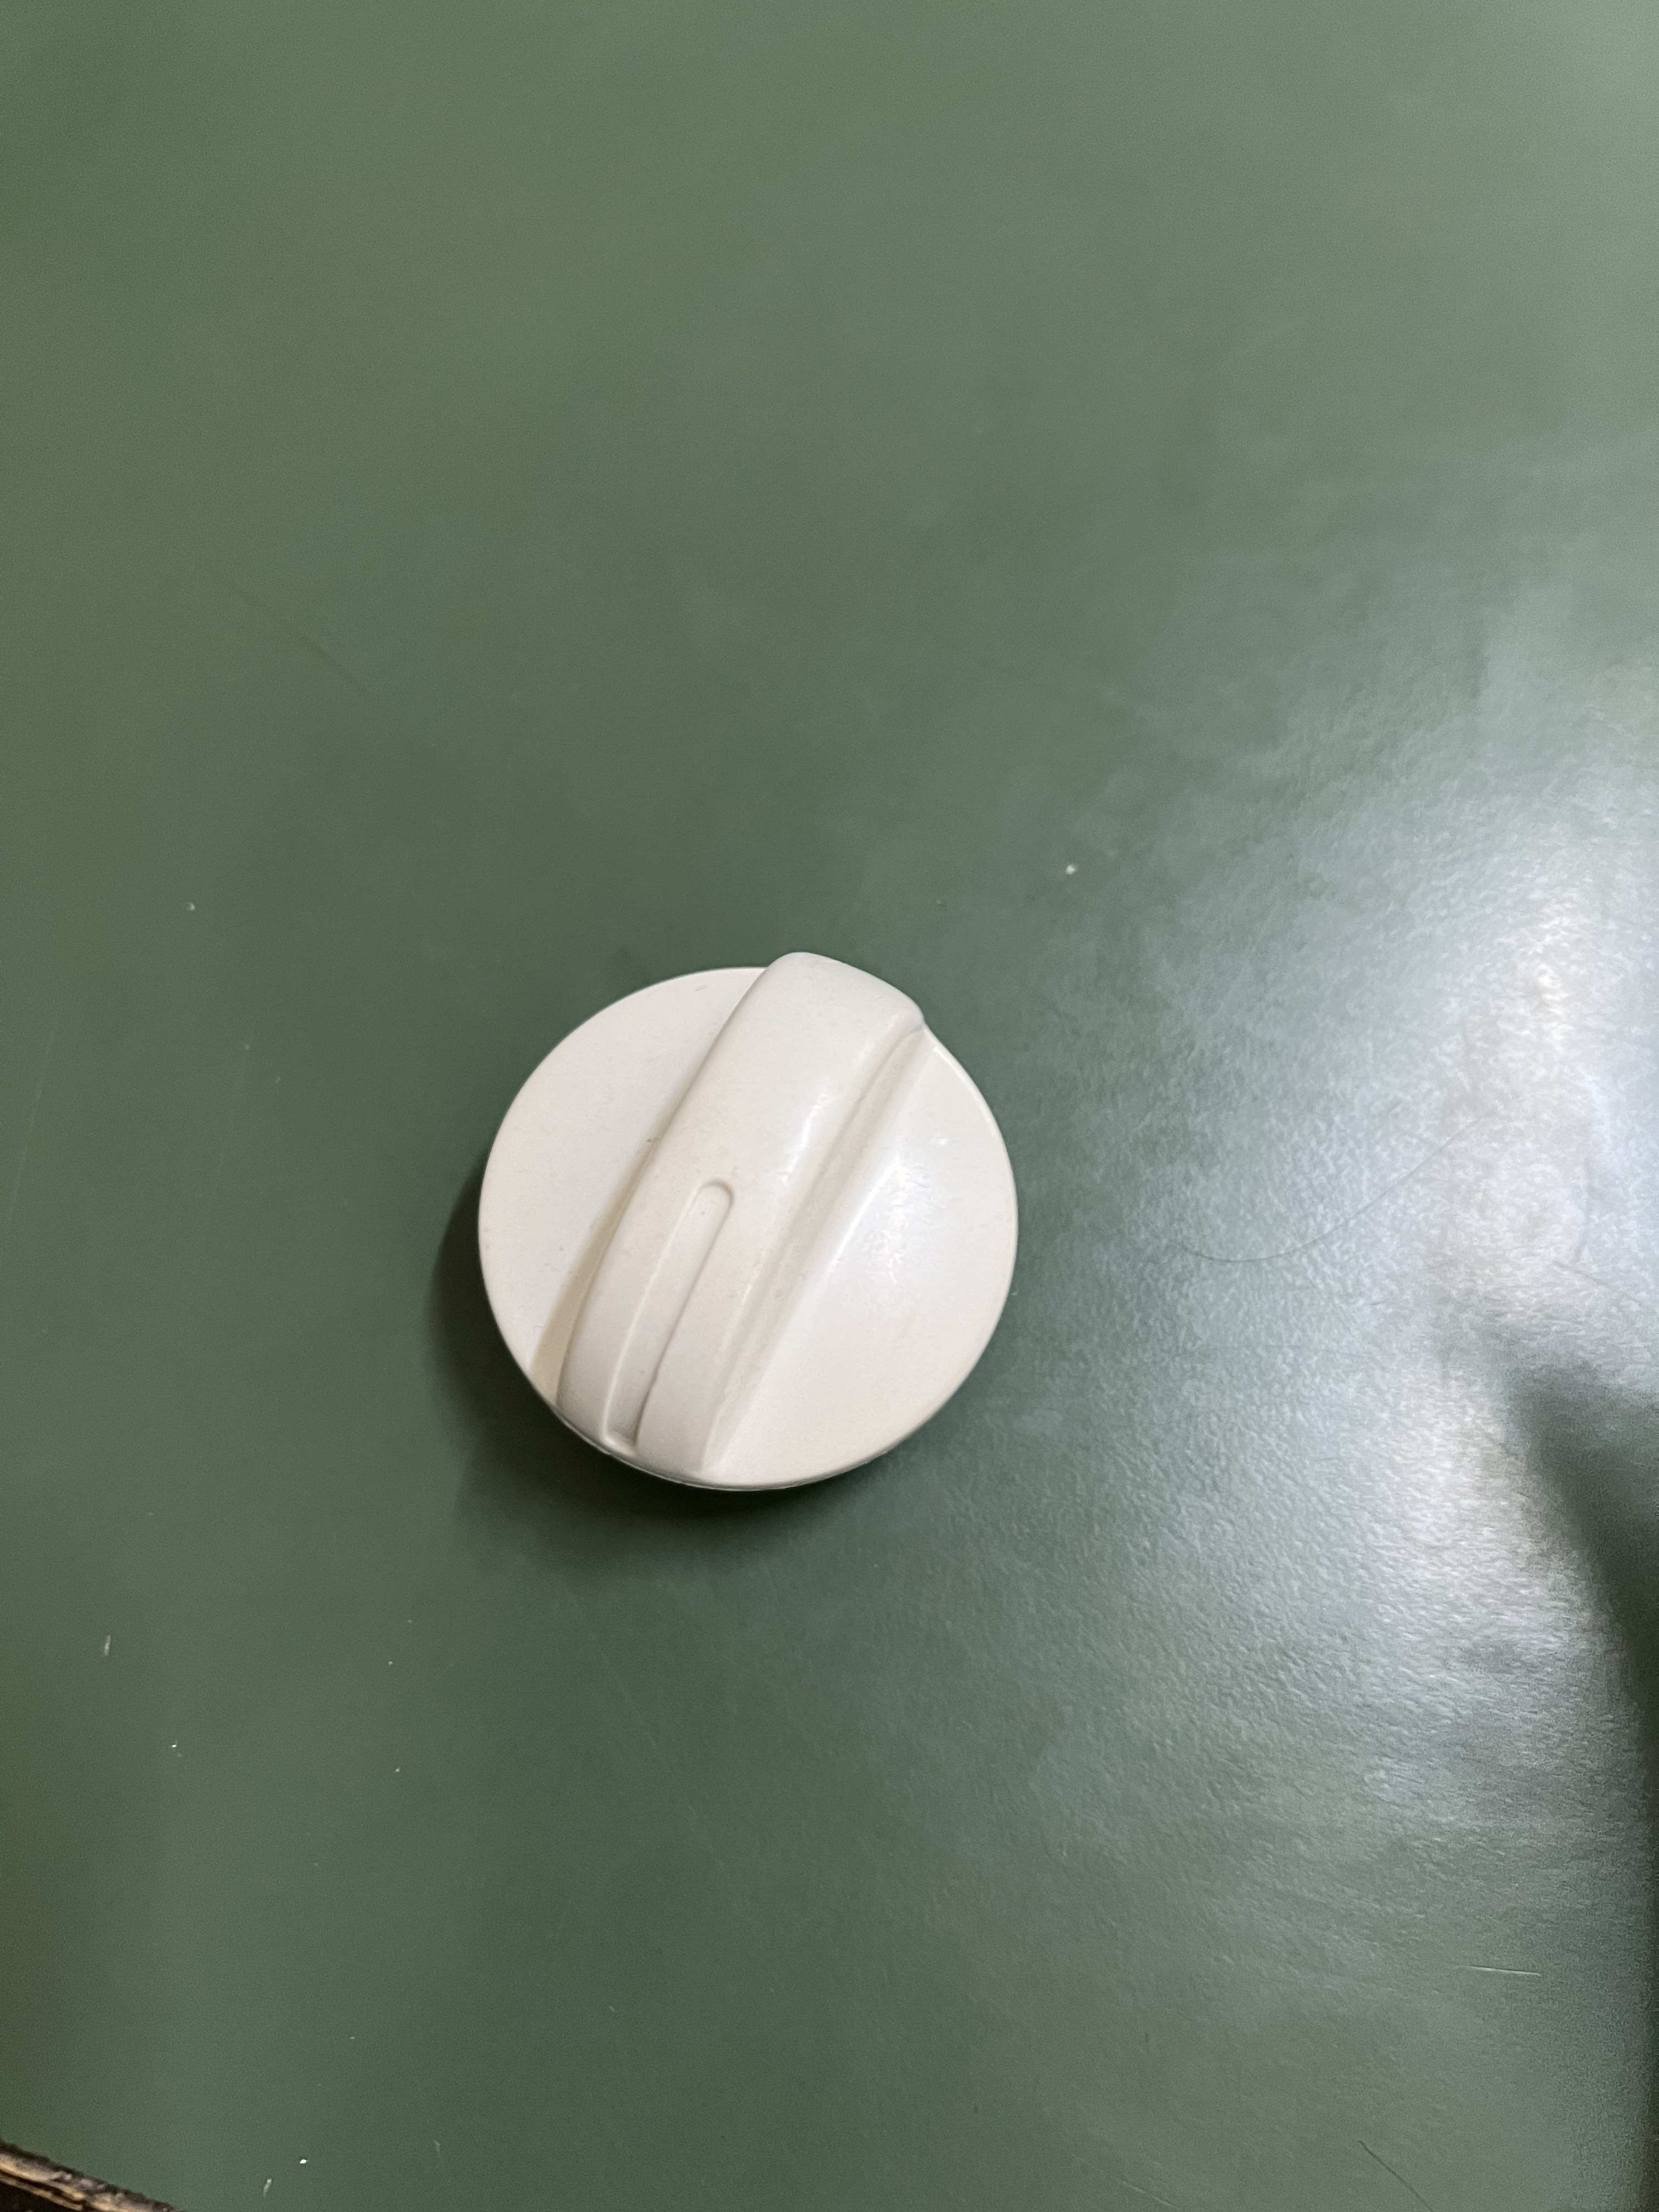regulator: (472, 932, 1039, 1501)
